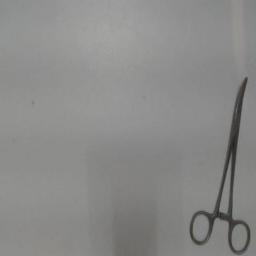Crile Artery Forceps: (188, 71, 252, 255)
